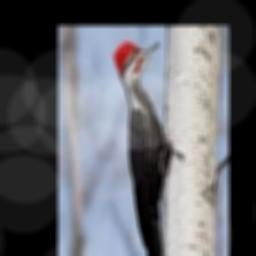Woodpecker: (114, 42, 170, 256)
